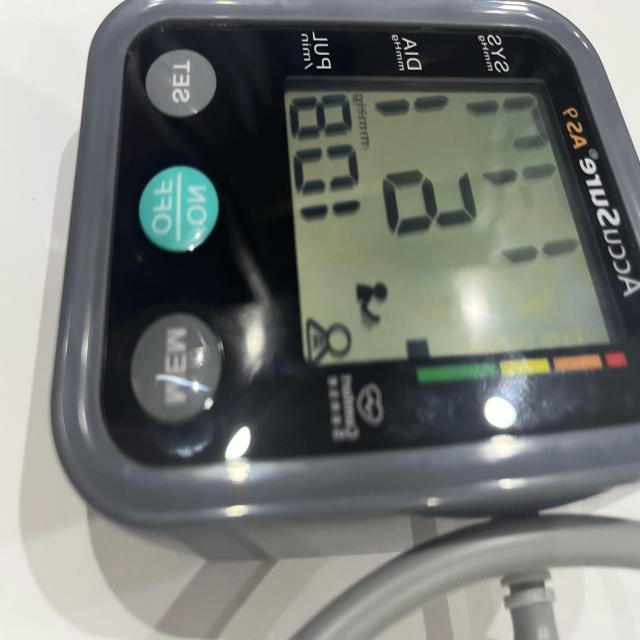bp: (47, 0, 640, 561)
